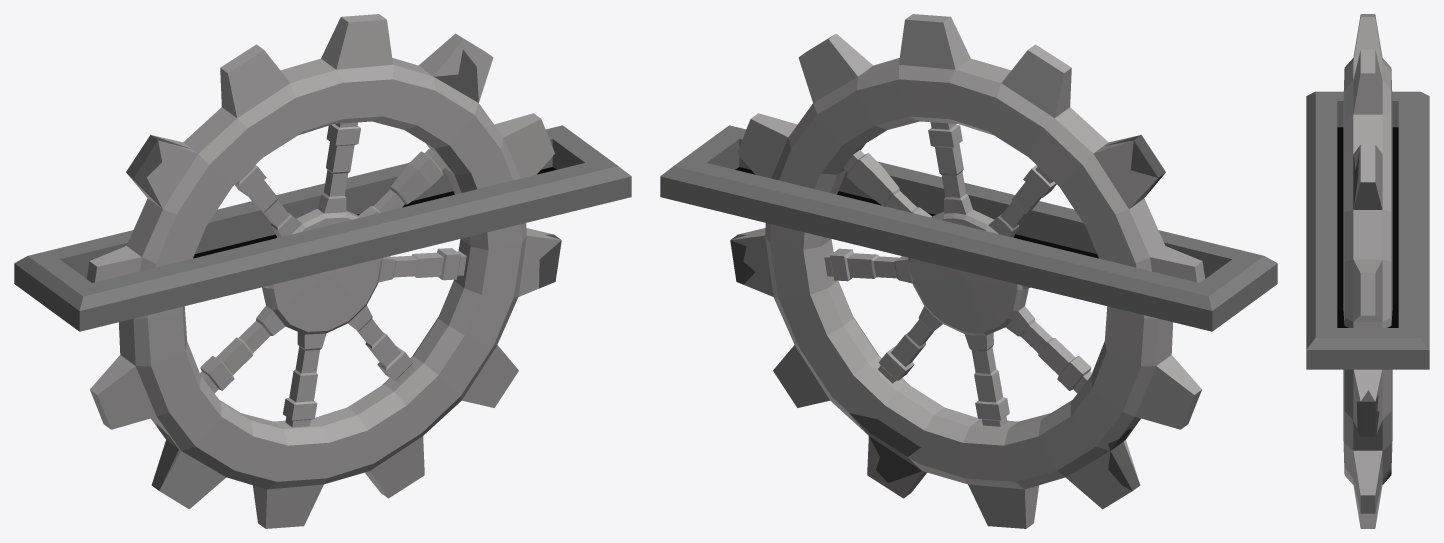
The model's file is Gear_Stone.fbx.
3 renders of one model, left to right at view 1: azimuth 30°, elevation 25°; view 2: azimuth 150°, elevation 25°; view 3: azimuth 270°, elevation 25°, orthographic. The views are drawn at different scales.
Visible parts, largest first — view 1: Gear, GearHousing; view 2: Gear, GearHousing; view 3: GearHousing, Gear.
Boxes of the visible parts, x1,y1,x2,y2 form: Gear: (86, 14, 561, 528); GearHousing: (14, 125, 631, 331); Gear: (730, 14, 1205, 528); GearHousing: (660, 125, 1277, 331); GearHousing: (1306, 91, 1429, 369); Gear: (1343, 14, 1392, 528).
Size of the model in its own units: 167 by 143 by 34.3.
